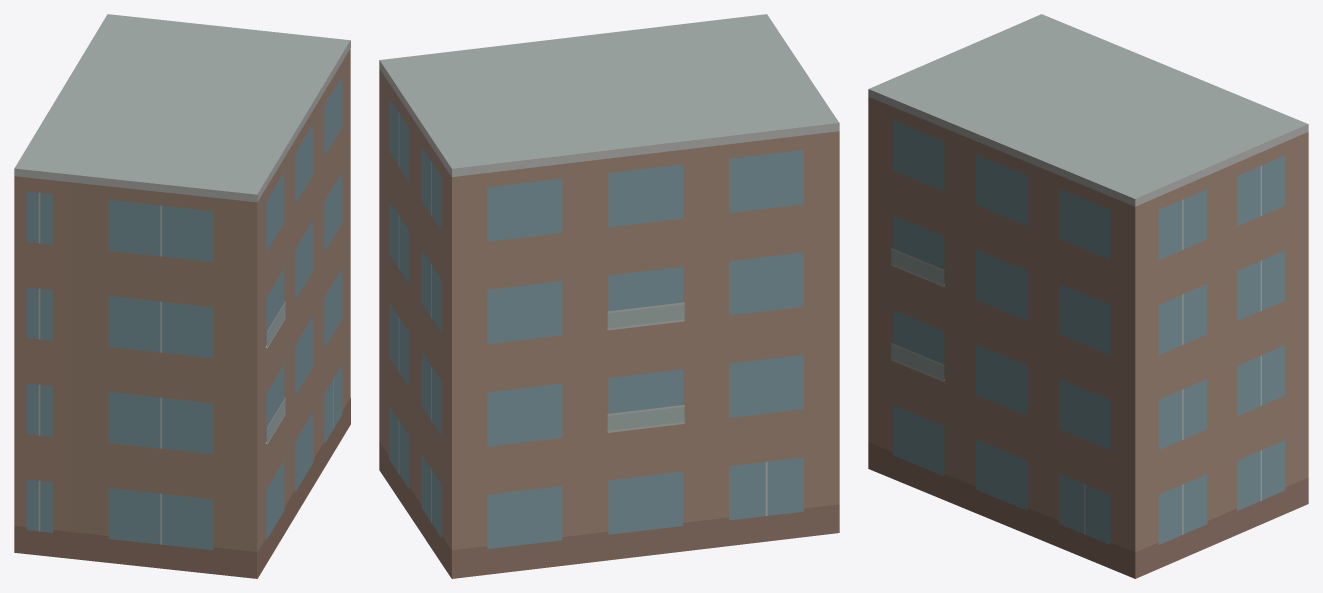
Rendered from residential-1a6ff4d8-4f19-4cec-a78b-582814b9a41b.glb.
The picture shows the model from 3 angles, left to right: view 1: azimuth 30°, elevation 25°; view 2: azimuth 150°, elevation 25°; view 3: azimuth 270°, elevation 25°; orthographic projection. The views are drawn at different scales.
Parts seen in each view (by area): view 1: residential-1a6ff4d8-4f19-4cec-a78b-582814b9a41b.tmp; view 2: residential-1a6ff4d8-4f19-4cec-a78b-582814b9a41b.tmp; view 3: residential-1a6ff4d8-4f19-4cec-a78b-582814b9a41b.tmp.
Boxes of the visible parts, x1=… form: residential-1a6ff4d8-4f19-4cec-a78b-582814b9a41b.tmp: x1=14, y1=14, x2=350, y2=578; residential-1a6ff4d8-4f19-4cec-a78b-582814b9a41b.tmp: x1=379, y1=14, x2=839, y2=578; residential-1a6ff4d8-4f19-4cec-a78b-582814b9a41b.tmp: x1=868, y1=14, x2=1308, y2=578.
Size of the model in its own units: 12.76 by 12.2 by 12.82.
